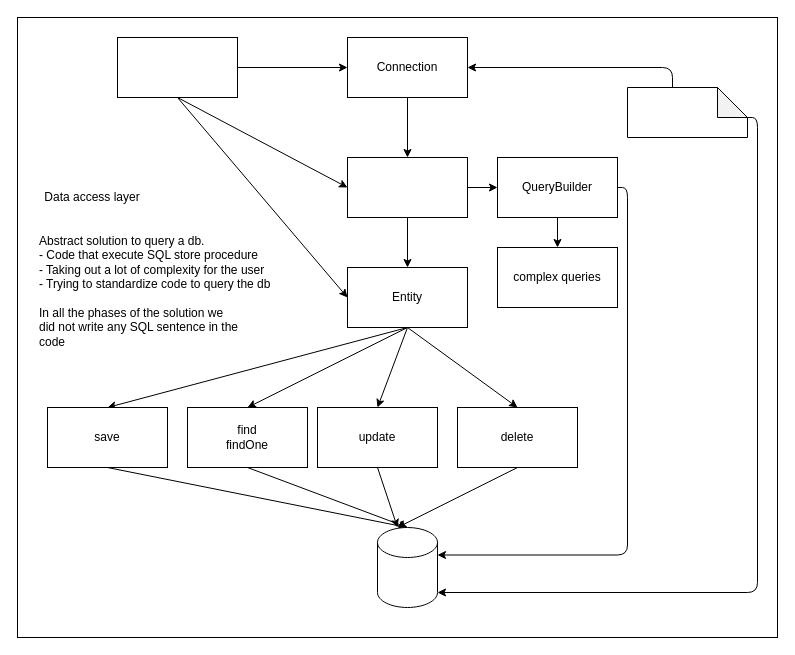
Some shapes in this 795 by 655 pixel diagram are drawn without their labels. The centre of each missing label's shape, as x and y in pixels:
"DB" belongs at (407,567).
"ormconfig.json" belongs at (687,112).
"Repository" belongs at (407,187).
"typeorm node_module" belongs at (177,67).
